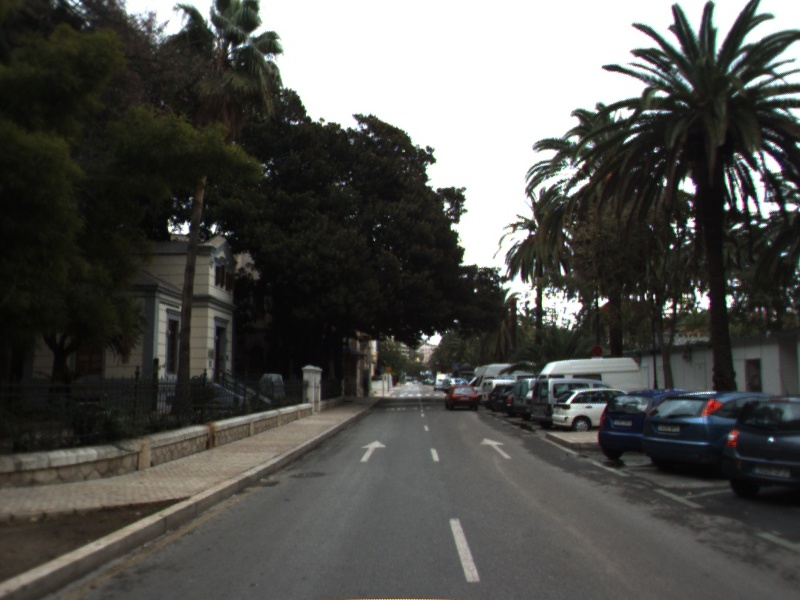STRAIGHT: (478, 436, 513, 461), (358, 439, 387, 464)
